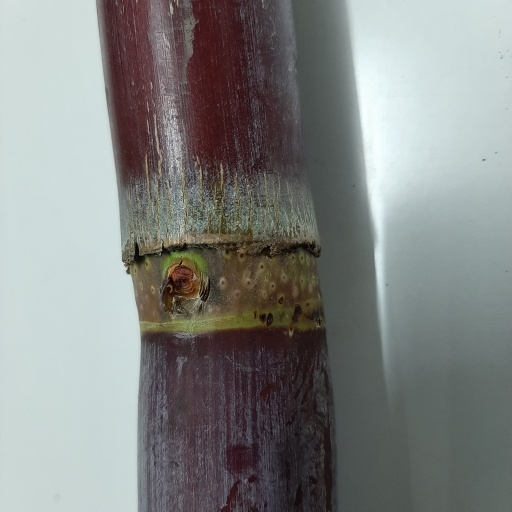Damage_Bud: (155, 258, 210, 308)
